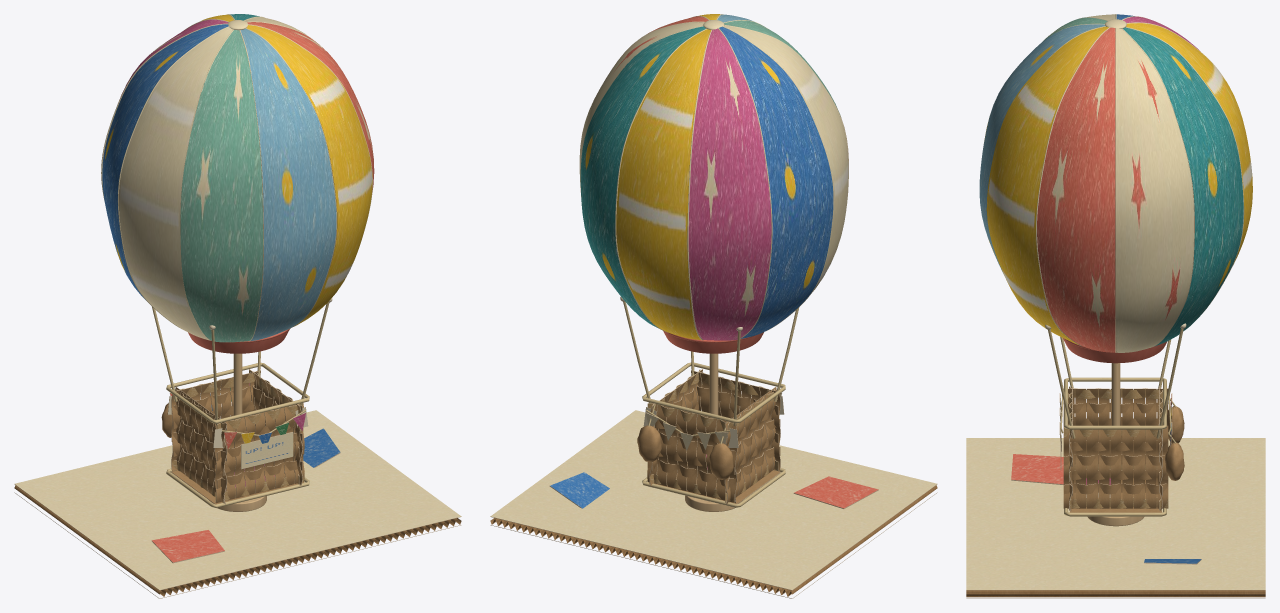
The model's file is 20_patchwork_hot_air_balloon.glb.
3 views of the same model, side by side, from view 1: azimuth 30°, elevation 25°; view 2: azimuth 150°, elevation 25°; view 3: azimuth 270°, elevation 25° (orthographic). The views are drawn at different scales.
Parts seen in each view (by area): view 1: artwork_20_patchwork_hot_air_balloon, cream, kraft, edge, twine, flute, coral, sand, wood, blue, tissue_coral; view 2: artwork_20_patchwork_hot_air_balloon, cream, kraft, twine, edge, flute, coral, sand, blue, wood, tissue_coral; view 3: artwork_20_patchwork_hot_air_balloon, cream, kraft, twine, flute, edge, coral, sand, wood, tissue_coral.
Boxes of the visible parts, x1,y1,x2,y2 form: artwork_20_patchwork_hot_air_balloon: (102, 14, 374, 469); cream: (14, 14, 461, 589); kraft: (161, 369, 304, 504); edge: (14, 93, 461, 598); twine: (152, 302, 329, 508); flute: (14, 472, 461, 596); coral: (152, 328, 290, 562); sand: (172, 370, 304, 502); wood: (209, 353, 266, 511); blue: (210, 394, 340, 467); tissue_coral: (188, 330, 289, 353); artwork_20_patchwork_hot_air_balloon: (579, 14, 848, 340); cream: (490, 14, 937, 589); kraft: (637, 369, 780, 503); twine: (623, 301, 799, 507); edge: (490, 57, 937, 598); flute: (490, 472, 937, 596); coral: (666, 332, 878, 508); sand: (647, 370, 780, 502); blue: (550, 472, 609, 508); wood: (685, 353, 742, 511); tissue_coral: (663, 331, 763, 353); artwork_20_patchwork_hot_air_balloon: (979, 14, 1252, 352); cream: (966, 14, 1265, 589); kraft: (1063, 387, 1184, 512); twine: (1048, 328, 1183, 516); flute: (966, 590, 1265, 597); edge: (966, 134, 1265, 598); coral: (1011, 338, 1171, 484); sand: (1064, 387, 1167, 510); wood: (1087, 363, 1144, 526); tissue_coral: (1063, 338, 1167, 363).
Bounding box in the file's own units: 0.36 × 0.554 × 0.3.
16 materials, 13 textured.
